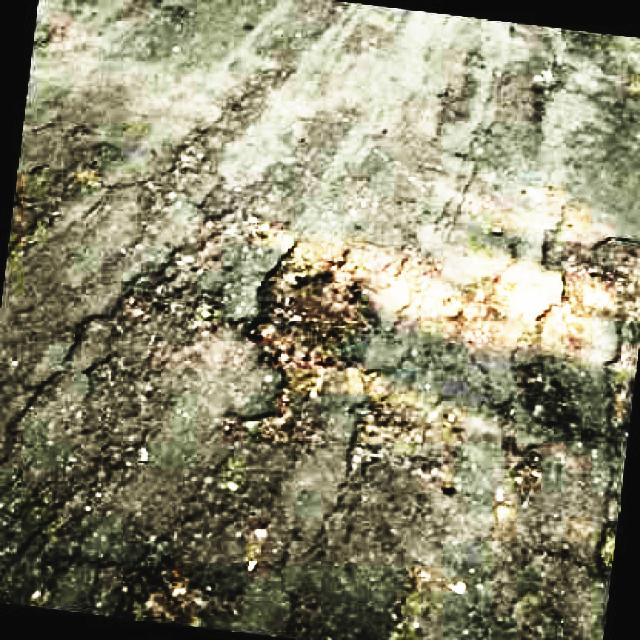pothole: (228, 240, 386, 442), (517, 229, 640, 446), (117, 195, 274, 338), (112, 544, 241, 640)
